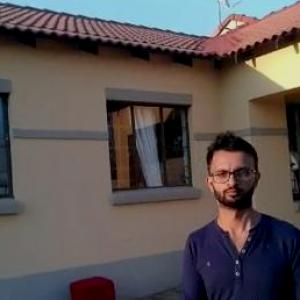follow: (167, 118, 300, 298)
